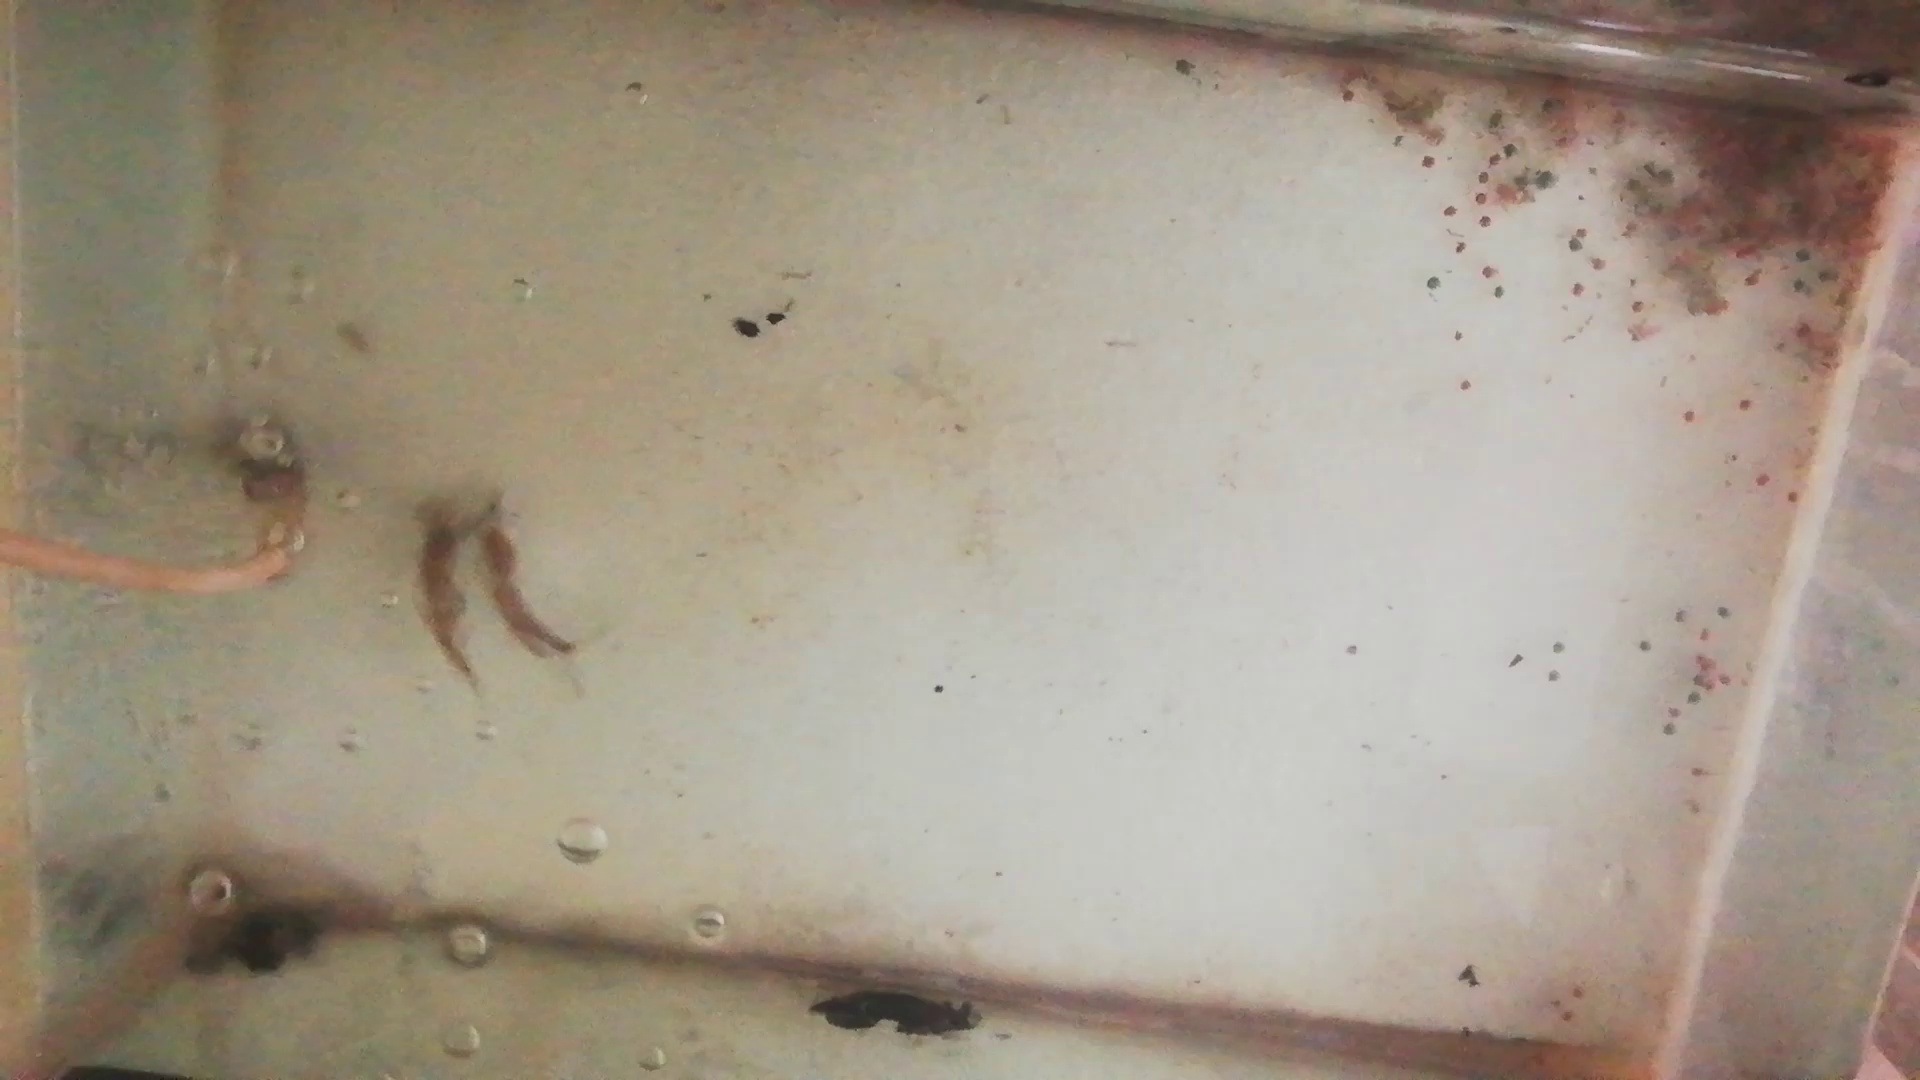fish: (477, 500, 572, 669), (411, 501, 476, 680)
